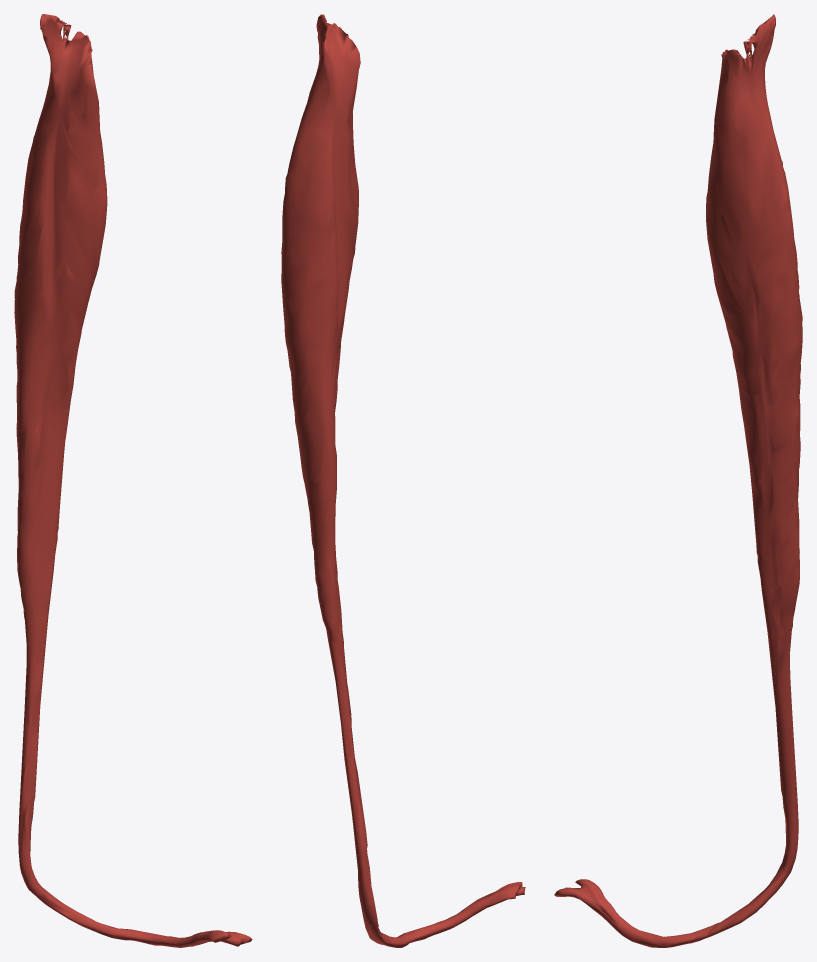
Rendered from musculos-fibularis-longus-muscle-l.glb.
3 views of the same model, side by side, from view 1: azimuth 90°, elevation 25°; view 2: azimuth 150°, elevation 25°; view 3: azimuth 270°, elevation 25° (orthographic). The views are drawn at different scales.
Parts seen in each view (by area): view 1: Fibularis longus muscle.l; view 2: Fibularis longus muscle.l; view 3: Fibularis longus muscle.l.
Part boxes in pixels (x1,y1,x2,y2): Fibularis longus muscle.l: [14, 14, 252, 947]; Fibularis longus muscle.l: [281, 14, 525, 947]; Fibularis longus muscle.l: [554, 14, 802, 947].
Bounding box in the file's own units: 0.0586 × 0.3792 × 0.0897.
